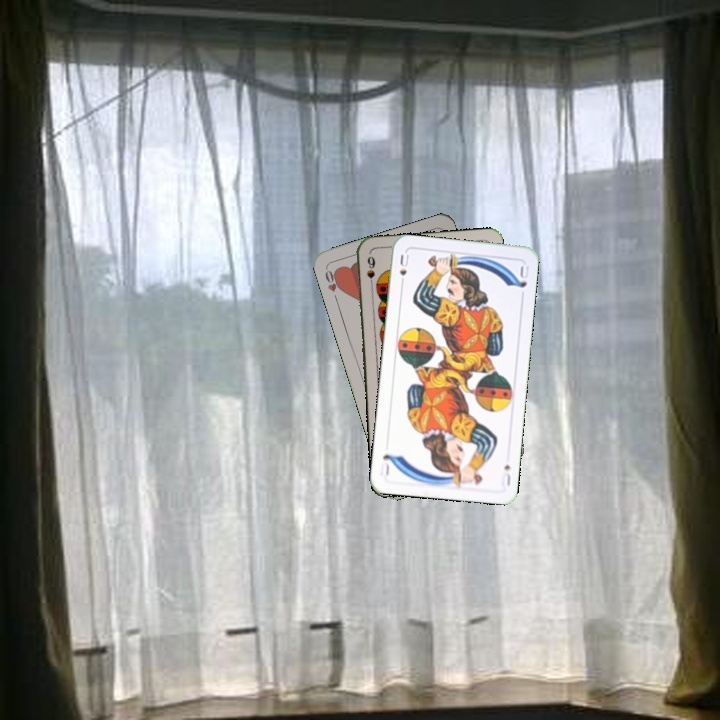HO: (321, 265, 344, 304)
S9: (363, 252, 378, 292)
SU: (396, 250, 411, 290), (497, 460, 513, 489)
